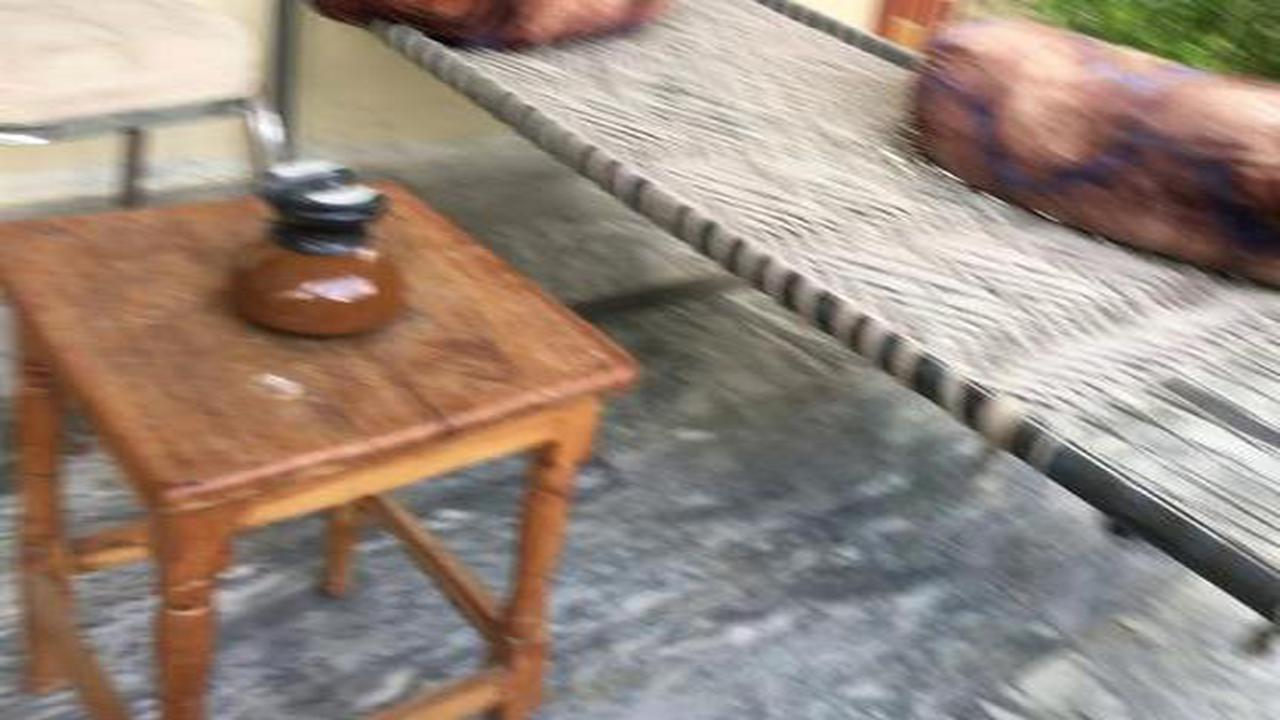insulator_pin: (204, 141, 434, 357)
